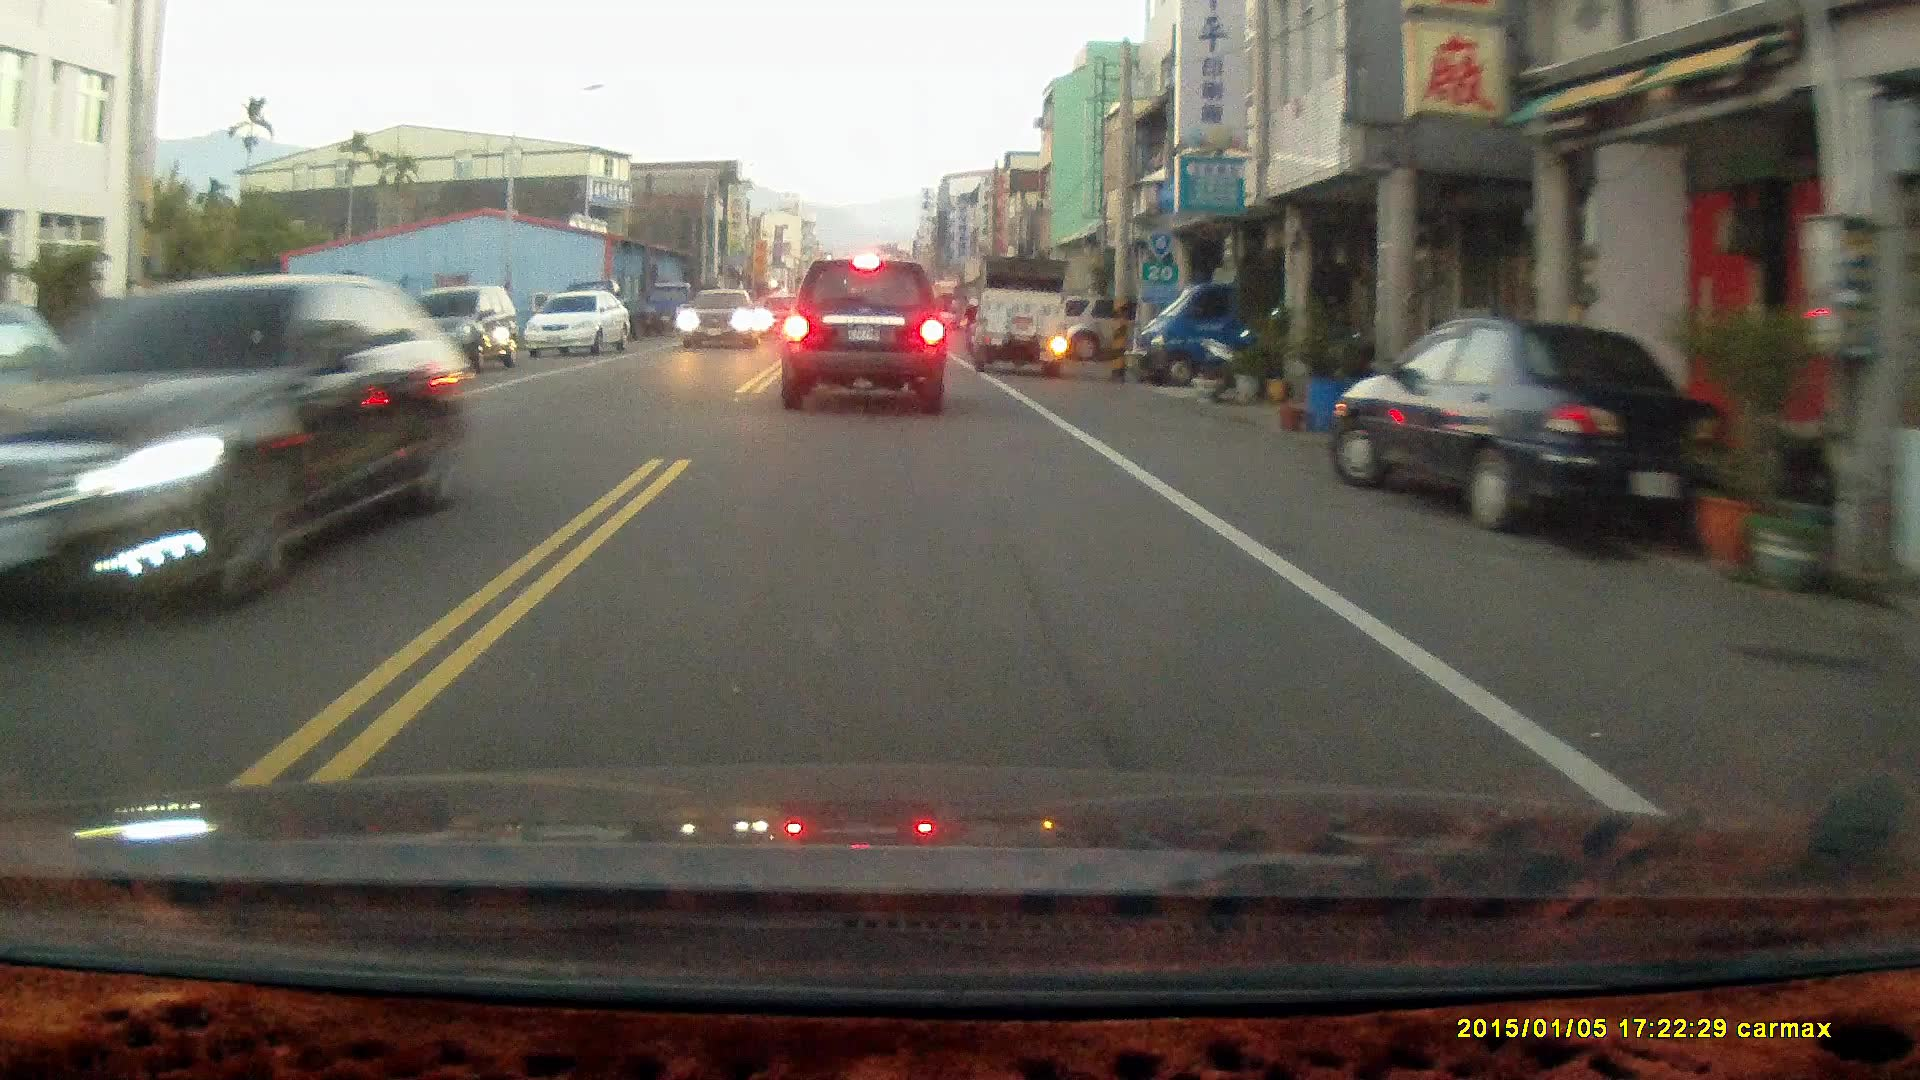vehicle: (1, 276, 477, 626), (1331, 316, 1759, 546), (782, 253, 949, 411), (1126, 258, 1283, 386), (392, 284, 524, 377), (972, 257, 1071, 376), (525, 289, 634, 359), (686, 290, 764, 349), (640, 280, 705, 339)
